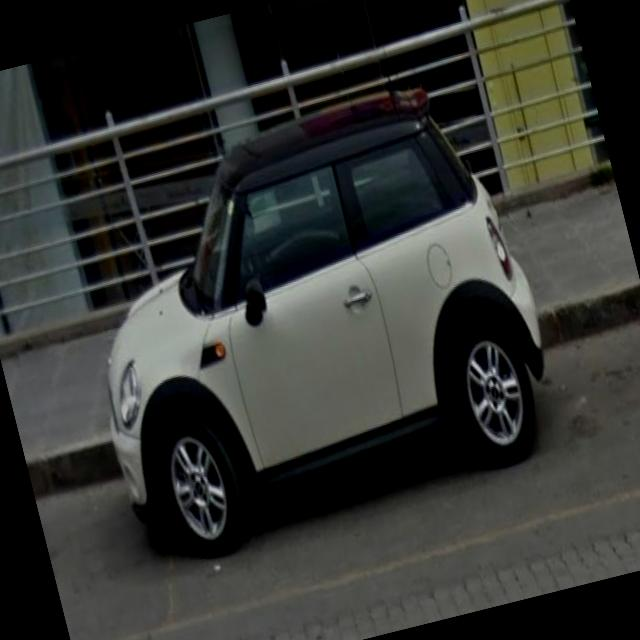car: (49, 59, 578, 576)
